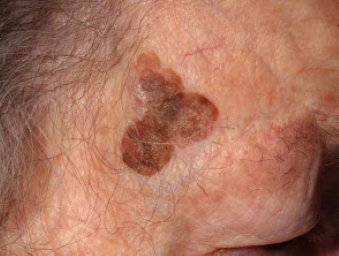seborrheic keratosis: (92, 27, 249, 192)
